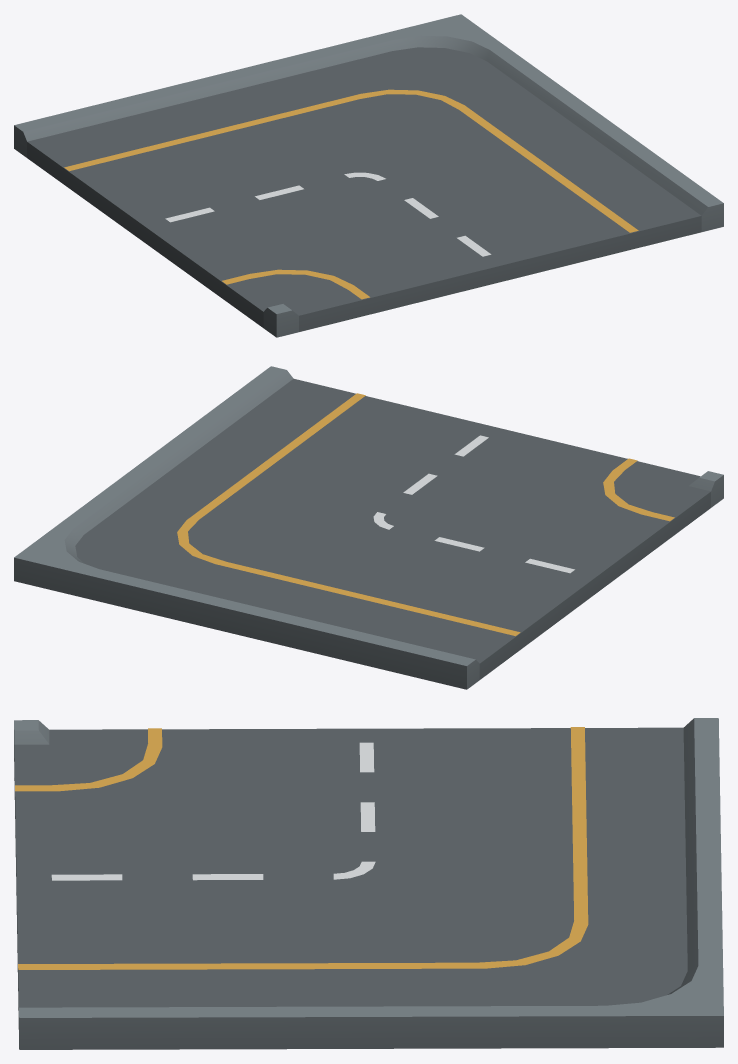
Rendered from roadcorner_lev3.glb.
3 views of the same model, one above another, from view 1: azimuth 30°, elevation 25°; view 2: azimuth 150°, elevation 25°; view 3: azimuth 270°, elevation 25° (orthographic). The views are drawn at different scales.
Visible parts, largest first — view 1: road_corner; view 2: road_corner; view 3: road_corner.
Part boxes in pixels (bbox=[...]): road_corner: bbox=[14, 14, 723, 337]; road_corner: bbox=[14, 366, 723, 689]; road_corner: bbox=[14, 718, 723, 1049].
Size of the model in its own units: 18.83 by 0.9348 by 18.83.
Materials: 1 (1 with a texture image).
